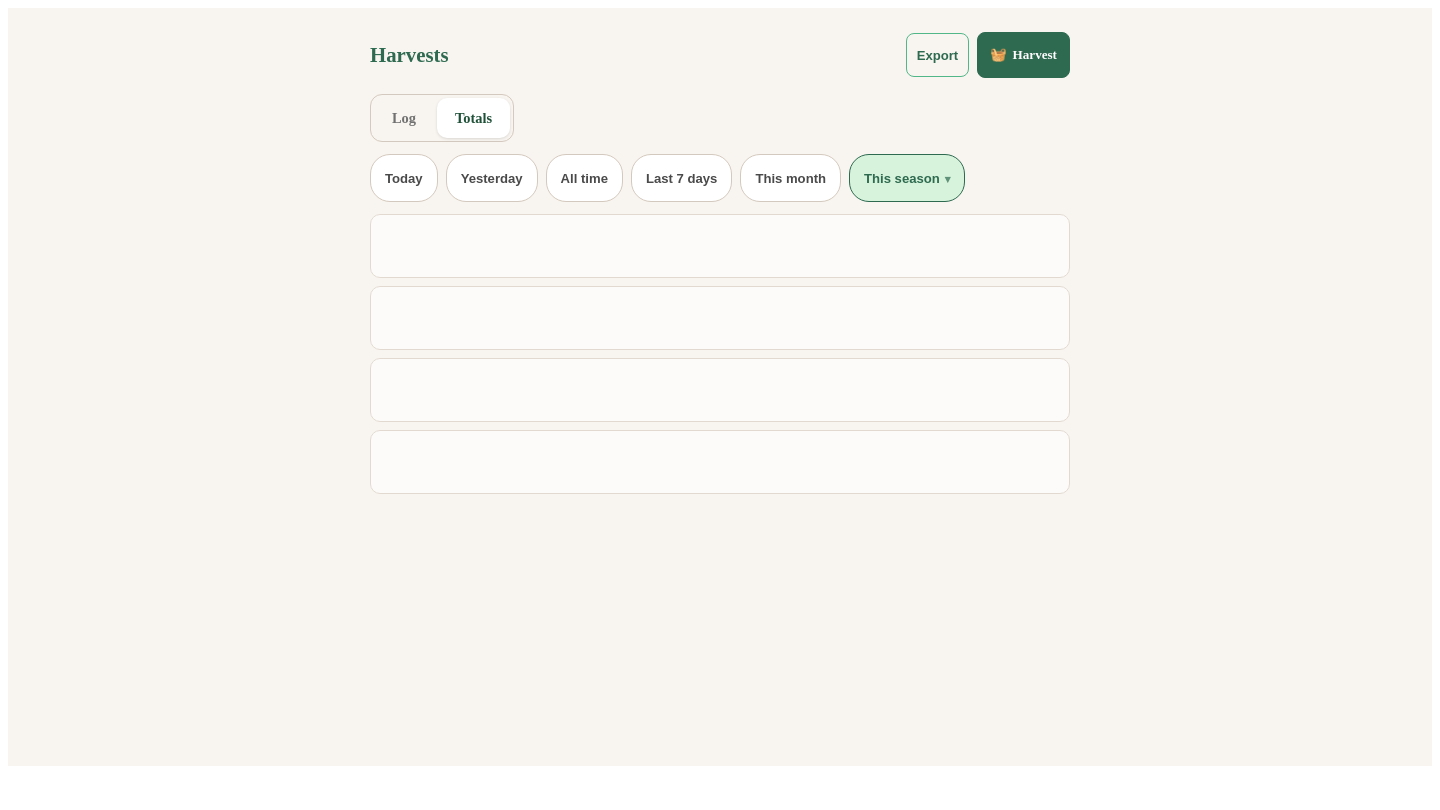
Scenario: Harvests — PROJHIDE › an unassigned (plantless) harvest is not a bare-project link
Click the radio button labelled "Log": point(404, 118) [374,98,434,138]
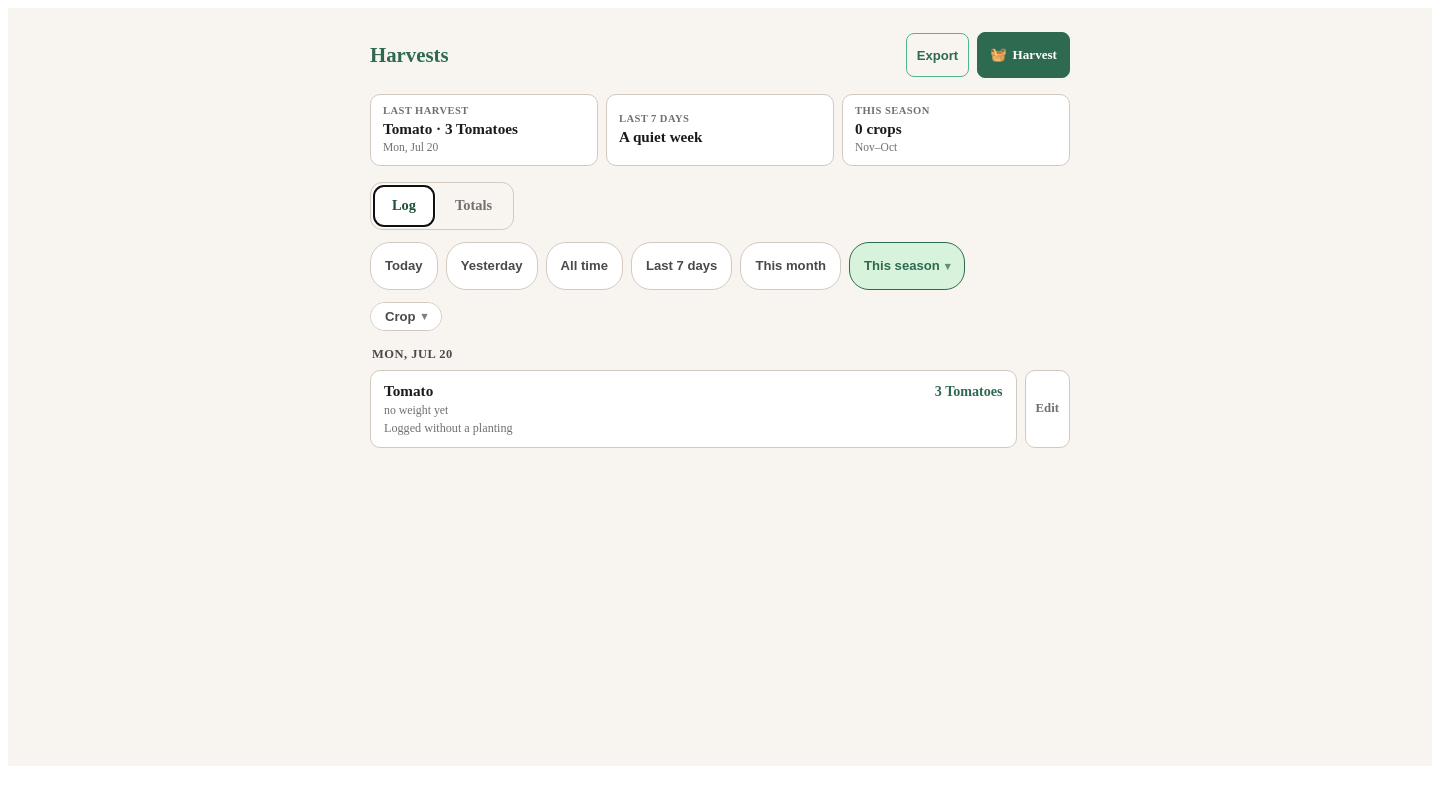
Expected: the text "Tomato" is shown, [384,382,433,400]
